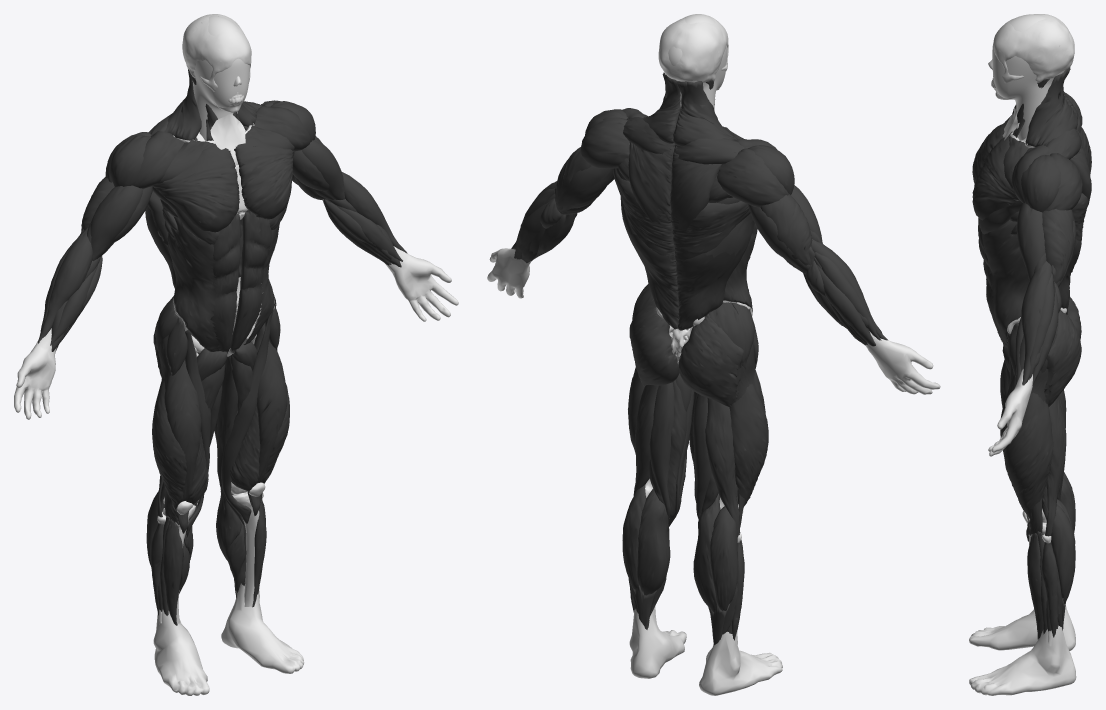
The model's file is corpo-11.glb.
3 renders of one model, left to right at view 1: azimuth 30°, elevation 25°; view 2: azimuth 150°, elevation 25°; view 3: azimuth 270°, elevation 25°, orthographic.
Visible parts, largest first — view 1: pele, deco, peito_medial, quad_reto_femoral, obliquos, adutores, antebraco_flexores, abdomen_supra, biceps_longa, antebraco_braquiorradial, osso, ombro_frontal (+17 smaller); view 2: pele, panturrilha_gastro, gluteo_maximo, dorsal_inferior, isquio_semitendineo, dorsal_superior, trapezio_inferior, antebraco_extensores, ombro_posterior, isquio_biceps_femoral, quad_vasto_lateral, trapezio_superior (+13 smaller); view 3: pele, quad_vasto_lateral, osso, deco, obliquos, peito_medial, cabeca, gluteo_maximo, trapezio_superior, panturrilha_gastro, isquio_biceps_femoral, triceps_lateral (+22 smaller).
Part boxes in pixels (box(x1,y1,x2,y2)): pele: box(14, 246, 458, 695); deco: box(151, 72, 273, 625); peito_medial: box(152, 138, 294, 232); quad_reto_femoral: box(164, 322, 287, 533); obliquos: box(167, 216, 279, 351); adutores: box(187, 338, 257, 538); antebraco_flexores: box(50, 198, 402, 351); abdomen_supra: box(213, 210, 271, 294); biceps_longa: box(90, 139, 345, 260); antebraco_braquiorradial: box(38, 172, 407, 343); osso: box(182, 14, 251, 112); ombro_frontal: box(132, 105, 310, 188); pele: box(487, 248, 940, 695); panturrilha_gastro: box(622, 484, 738, 611); gluteo_maximo: box(629, 303, 743, 407); dorsal_inferior: box(625, 226, 746, 330); isquio_semitendineo: box(649, 380, 718, 521); dorsal_superior: box(613, 168, 754, 257); trapezio_inferior: box(628, 142, 722, 230); antebraco_extensores: box(514, 188, 881, 346); ombro_posterior: box(580, 117, 788, 207); isquio_biceps_femoral: box(633, 385, 739, 536); quad_vasto_lateral: box(628, 367, 768, 506); trapezio_superior: box(643, 72, 735, 146); pele: box(969, 369, 1076, 695); quad_vasto_lateral: box(1004, 392, 1053, 533); osso: box(988, 14, 1074, 99); deco: box(1007, 78, 1065, 639); obliquos: box(982, 220, 1029, 347); peito_medial: box(972, 121, 1019, 220); cabeca: box(992, 14, 1074, 140); gluteo_maximo: box(1044, 297, 1081, 406); trapezio_superior: box(1025, 66, 1078, 146); panturrilha_gastro: box(1051, 472, 1075, 603); isquio_biceps_femoral: box(1042, 390, 1066, 536); triceps_lateral: box(1042, 209, 1074, 283).
Bounding box in the file's own units: 1.19 × 1.65 × 0.2829.
1 material, 1 textured.
